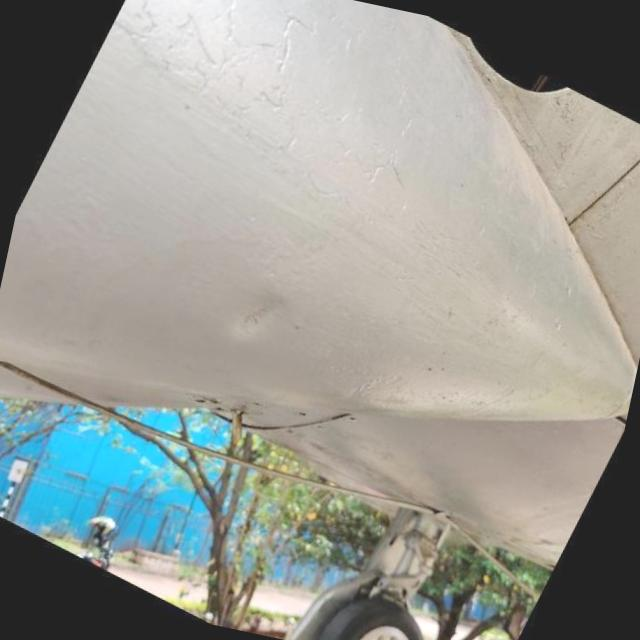dent: (200, 256, 306, 364)
